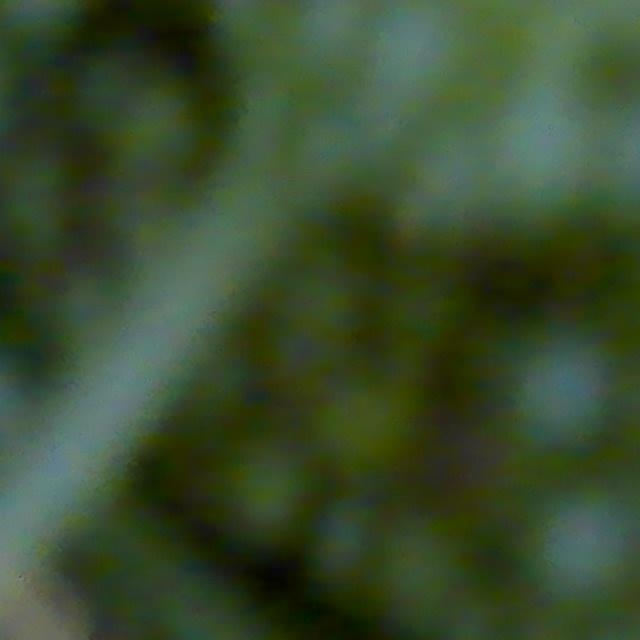SeaGrape: (522, 480, 640, 605), (360, 0, 483, 111), (508, 332, 614, 445), (315, 374, 423, 478), (109, 81, 206, 180), (225, 446, 315, 543), (309, 500, 387, 588)
